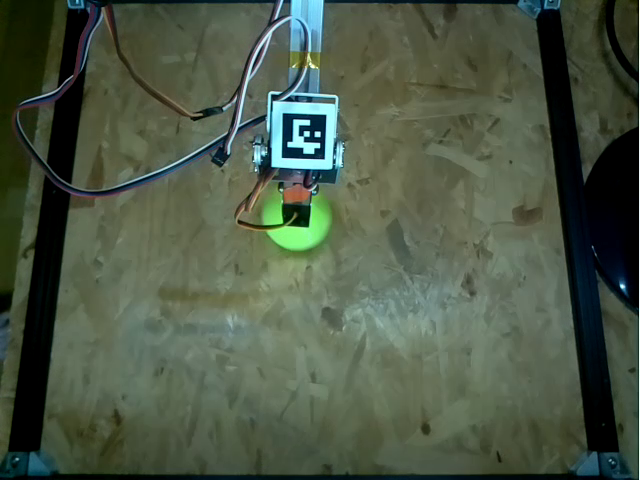tennis_ball: (264, 185, 334, 251)
